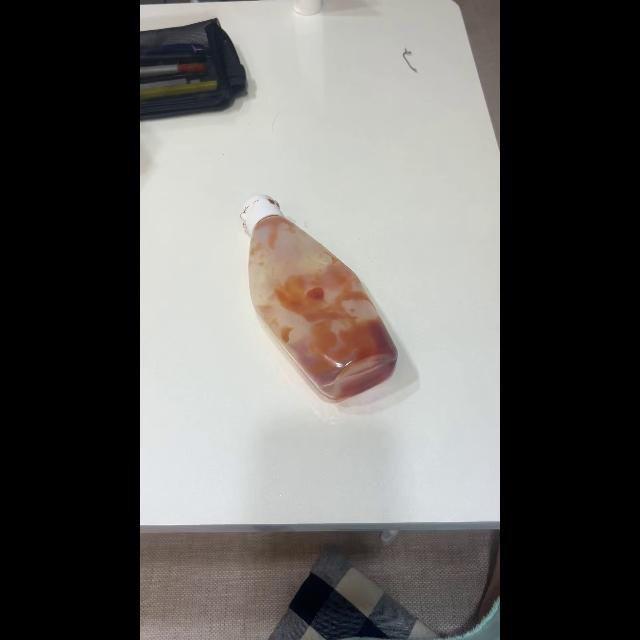dirty: (246, 198, 399, 404)
